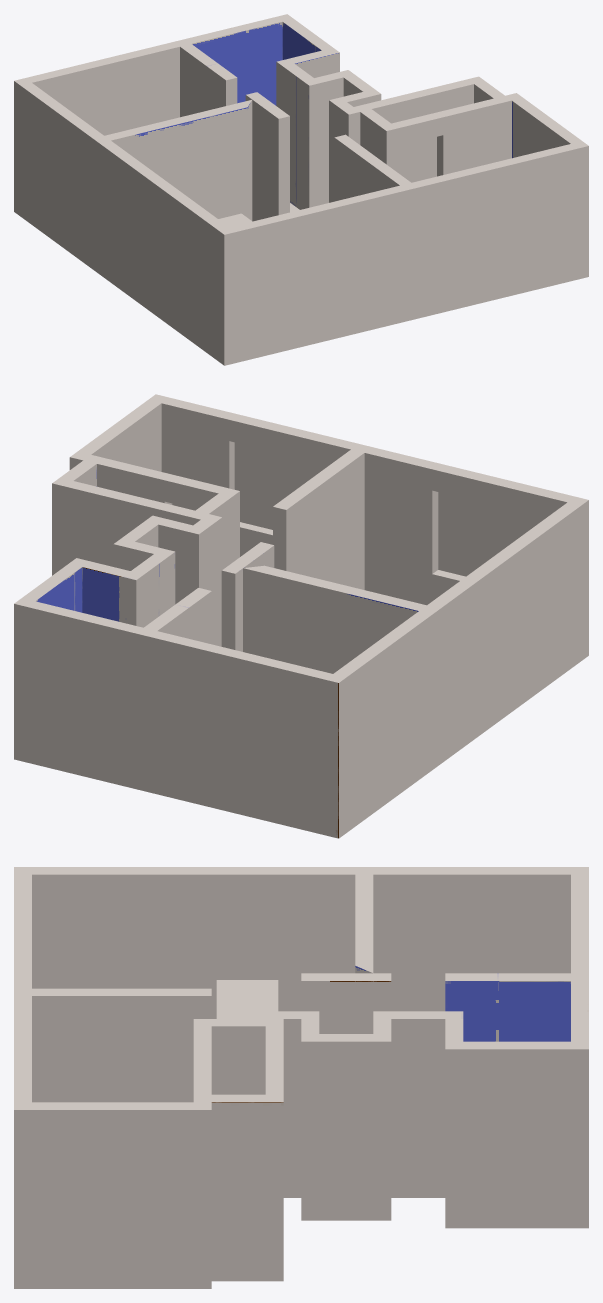
File: creator_house.glb
3 renders of one model, top to bottom at view 1: azimuth 30°, elevation 25°; view 2: azimuth 150°, elevation 25°; view 3: azimuth 270°, elevation 25°, orthographic. The views are drawn at different scales.
Visible parts, largest first — view 1: Plane.002; view 2: Plane.002; view 3: Plane.002.
Part boxes in pixels (left/top/right/bottom): Plane.002: left=14, top=14, right=588, bottom=365; Plane.002: left=14, top=394, right=588, bottom=838; Plane.002: left=14, top=867, right=588, bottom=1288.
Bounding box in the file's own units: 104 × 35.65 × 104.
Materials: 1 (1 with a texture image).
